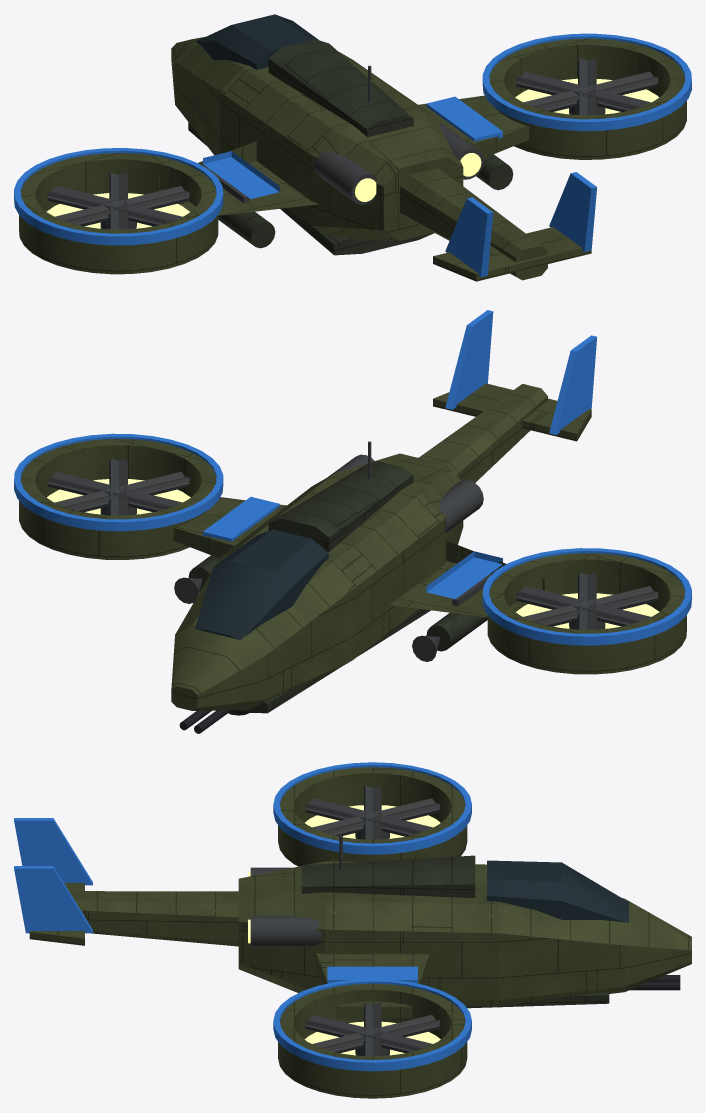
Rendered from militar_vtol.glb.
3 renders of one model, top to bottom at view 1: azimuth 30°, elevation 25°; view 2: azimuth 150°, elevation 25°; view 3: azimuth 270°, elevation 25°, orthographic. The views are drawn at different scales.
Parts seen in each view (by area): view 1: Body_Hull, Body_TeamColor, Body_HullDark, Rotor_L_Metal, Rotor_R_Metal, Body_Glass, Body_Metal, Body_Glow; view 2: Body_Hull, Body_TeamColor, Body_Glass, Body_HullDark, Rotor_R_Metal, Rotor_L_Metal, Body_Metal, Body_Glow, Body_Gun; view 3: Body_Hull, Body_TeamColor, Body_HullDark, Body_Glass, Rotor_L_Metal, Rotor_R_Metal, Body_Metal, Body_Glow, Body_Gun.
Part boxes in pixels (<box>): Body_Hull: <box>19,37,686,281</box>; Body_TeamColor: <box>14,33,691,277</box>; Body_HullDark: <box>188,39,513,255</box>; Rotor_L_Metal: <box>47,172,189,229</box>; Rotor_R_Metal: <box>516,58,658,115</box>; Body_Glass: <box>195,14,319,69</box>; Body_Metal: <box>216,65,483,204</box>; Body_Glow: <box>46,78,658,228</box>; Body_Hull: <box>19,383,686,710</box>; Body_TeamColor: <box>14,310,691,645</box>; Body_Glass: <box>195,529,328,639</box>; Body_HullDark: <box>188,461,487,713</box>; Rotor_R_Metal: <box>47,458,189,515</box>; Rotor_L_Metal: <box>516,572,658,629</box>; Body_Metal: <box>174,441,487,661</box>; Body_Glow: <box>47,479,659,628</box>; Body_Gun: <box>179,710,248,733</box>; Body_Hull: <box>29,767,691,1098</box>; Body_TeamColor: <box>14,762,471,1071</box>; Body_HullDark: <box>301,855,609,1008</box>; Body_Glass: <box>487,860,628,923</box>; Rotor_L_Metal: <box>305,785,440,839</box>; Rotor_R_Metal: <box>305,1002,440,1056</box>; Body_Metal: <box>250,835,462,1003</box>; Body_Glow: <box>248,805,440,1055</box>; Body_Gun: <box>630,975,680,990</box>.
Bounding box in the file's own units: 9.02 × 2.32 × 8.6.
Materials: 7 (2 with a texture image).
